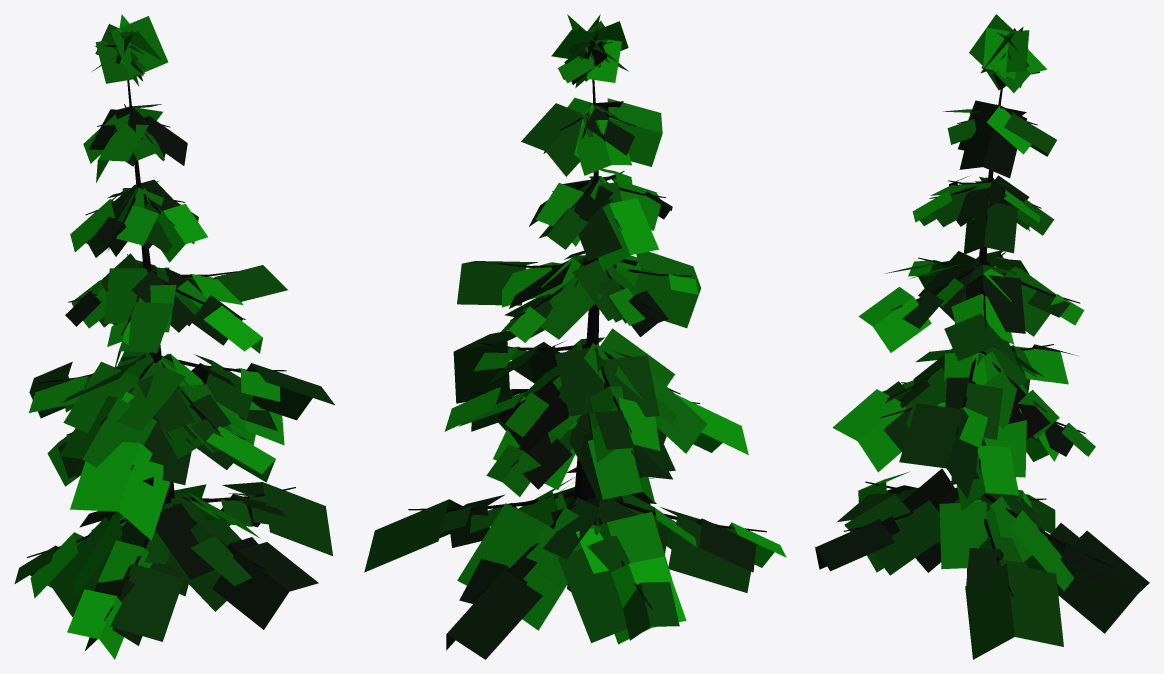
The picture shows the model from 3 angles, left to right: view 1: azimuth 30°, elevation 25°; view 2: azimuth 150°, elevation 25°; view 3: azimuth 270°, elevation 25°; orthographic projection. The views are drawn at different scales.
Parts seen in each view (by area): view 1: IL3DN_Tree_Pine_03_OneMesh_LOD0; view 2: IL3DN_Tree_Pine_03_OneMesh_LOD0; view 3: IL3DN_Tree_Pine_03_OneMesh_LOD0.
Part boxes in pixels (x1=…): IL3DN_Tree_Pine_03_OneMesh_LOD0: x1=14, y1=14, x2=334, y2=659; IL3DN_Tree_Pine_03_OneMesh_LOD0: x1=364, y1=14, x2=786, y2=659; IL3DN_Tree_Pine_03_OneMesh_LOD0: x1=815, y1=14, x2=1149, y2=659.
Size of what is drawn, in the model's own units: 351 by 606 by 324.
